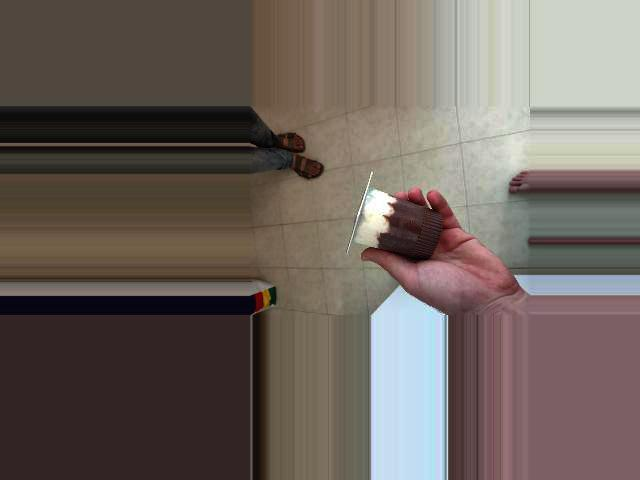milky: (345, 178, 451, 264)
